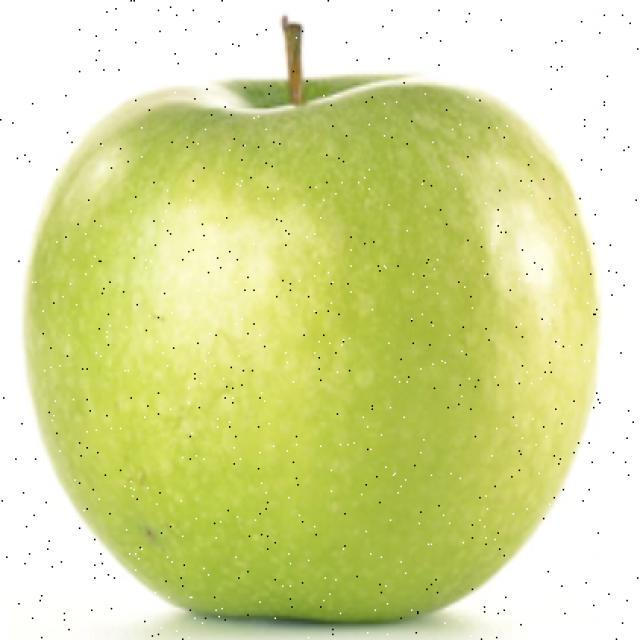Fresh Apple: (70, 85, 573, 602)
